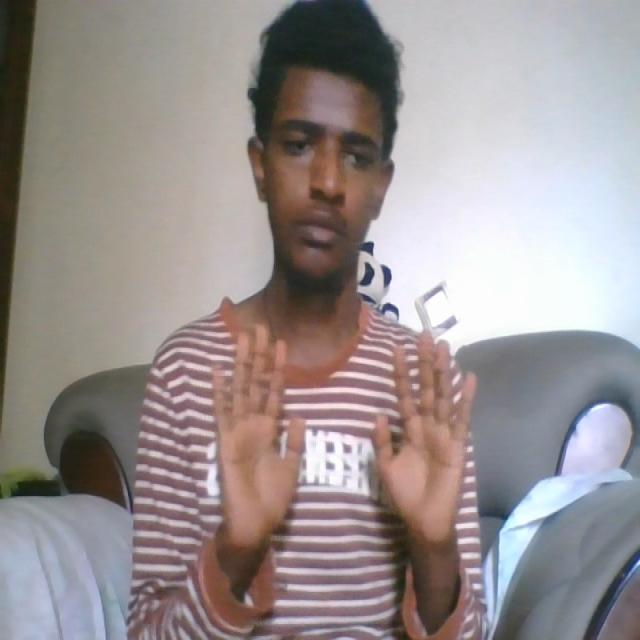megerem: (208, 329, 478, 546)
